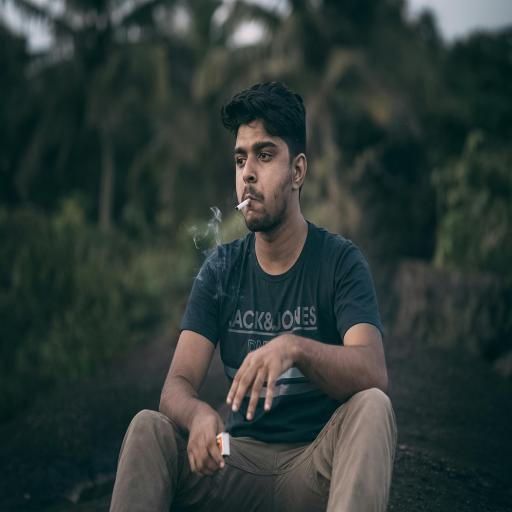merokok: (226, 136, 280, 229)
